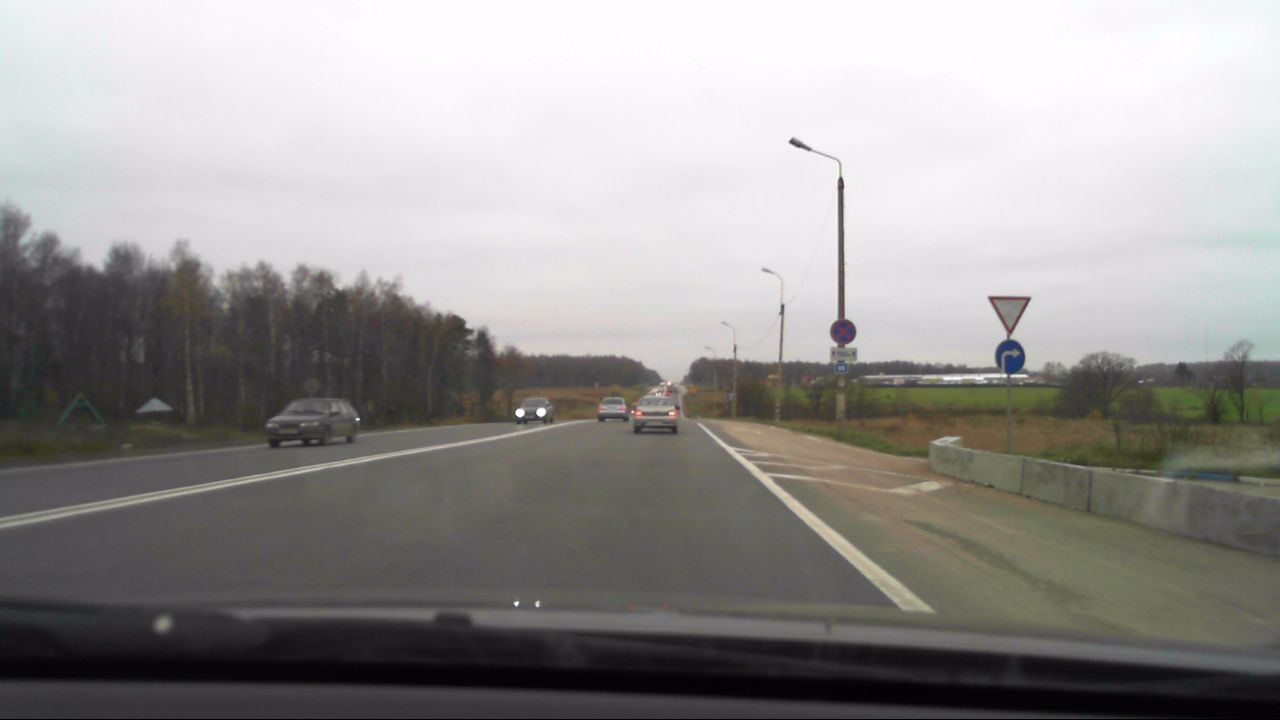No Parking: (828, 319, 858, 345)
